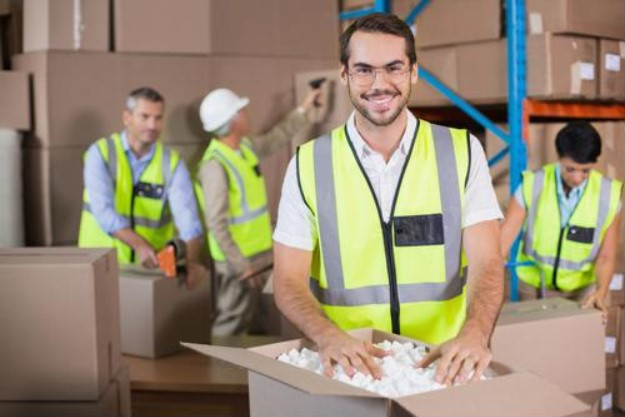worker: (298, 16, 471, 342), (523, 120, 617, 289), (82, 91, 174, 261), (196, 87, 273, 262)
